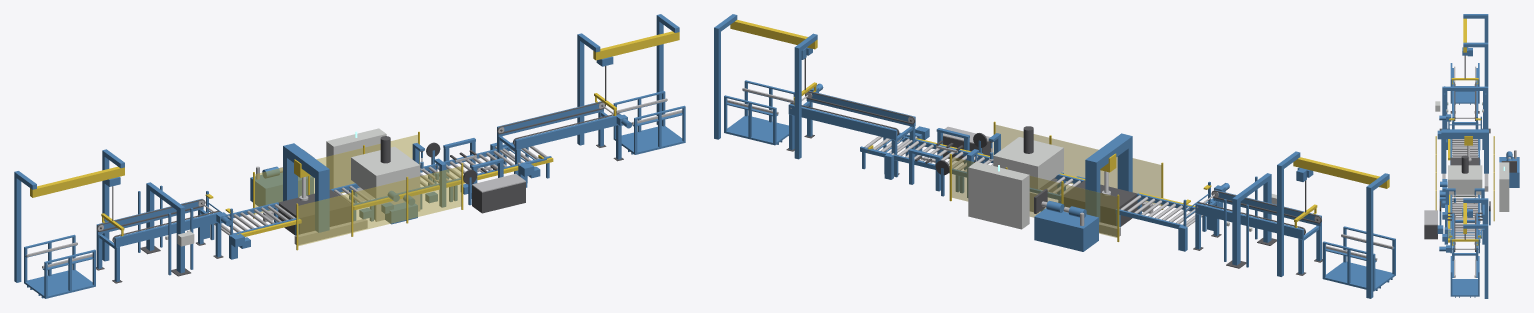
The model's file is SM_CathodeBlankRepairLine.fbx.
3 renders of one model, left to right at view 1: azimuth 30°, elevation 25°; view 2: azimuth 150°, elevation 25°; view 3: azimuth 270°, elevation 25°, orthographic. The views are drawn at different scales.
Parts seen in each view (by area): view 1: BR_Guards, BR_Dressing, BR_BrushHousing, BR_ChainIn_Frame, BR_ChainOut_Frame, BR_HoistIn_Monorail, BR_HoistOut_Monorail, BR_TransportRack_In, BR_TransportRack_Out, BR_PressBed, BR_FlatnessScanner, BR_PressGantry (+8 smaller); view 2: BR_Dressing, BR_Guards, BR_ChainOut_Frame, BR_ChainIn_Frame, BR_HoistIn_Monorail, BR_HoistOut_Monorail, BR_BrushHousing, BR_TransportRack_Out, BR_TransportRack_In, BR_PressGantry, BR_FlatnessScanner, BR_PressBed (+4 smaller); view 3: BR_Dressing, BR_BrushHousing, BR_PressGantry, BR_HoistOut_Monorail, BR_FlatnessScanner, BR_TransportRack_Out, BR_HoistIn_Monorail, BR_ChainOut_Frame, BR_TransportRack_In, BR_ChainIn_Frame, BR_Guards, BR_PressBed (+15 smaller).
Part boxes in pixels (x1,y1,x2,y2): BR_Guards: (253,131,463,250); BR_Dressing: (250,128,525,213); BR_BrushHousing: (351,136,420,221); BR_ChainIn_Frame: (96,199,231,283); BR_ChainOut_Frame: (497,101,631,174); BR_HoistIn_Monorail: (14,149,124,282); BR_HoistOut_Monorail: (577,14,679,145); BR_TransportRack_In: (24,234,95,298); BR_TransportRack_Out: (613,91,685,154); BR_PressBed: (263,189,367,244); BR_FlatnessScanner: (138,182,194,276); BR_PressGantry: (283,143,329,232); BR_Dressing: (943,126,1098,251); BR_Guards: (949,121,1163,241); BR_ChainOut_Frame: (786,83,915,175); BR_ChainIn_Frame: (1193,183,1322,275); BR_HoistIn_Monorail: (1277,151,1389,298); BR_HoistOut_Monorail: (714,14,817,159); BR_BrushHousing: (993,126,1063,212); BR_TransportRack_Out: (724,80,794,145); BR_TransportRack_In: (1322,226,1395,291); BR_PressGantry: (1085,133,1132,222); BR_FlatnessScanner: (1224,173,1276,268); BR_PressBed: (1063,180,1153,236); BR_Dressing: (1424,150,1519,239); BR_BrushHousing: (1448,155,1482,209); BR_PressGantry: (1441,129,1488,173); BR_HoistOut_Monorail: (1463,198,1488,298); BR_FlatnessScanner: (1435,86,1490,133); BR_TransportRack_Out: (1450,256,1479,297); BR_HoistIn_Monorail: (1463,14,1488,86); BR_ChainOut_Frame: (1439,213,1478,277); BR_TransportRack_In: (1450,63,1479,104); BR_ChainIn_Frame: (1439,82,1479,129); BR_Guards: (1435,136,1494,221); BR_PressBed: (1442,157,1488,191).
Bounding box in the file's own units: 2940 × 475 × 560.
